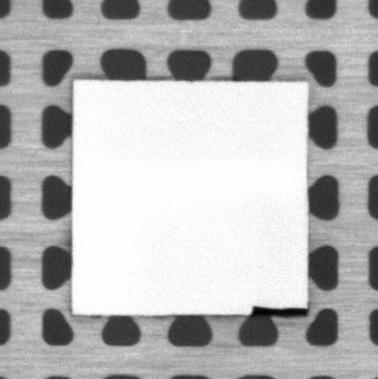DIE_BROKEN: (249, 304, 310, 318)
